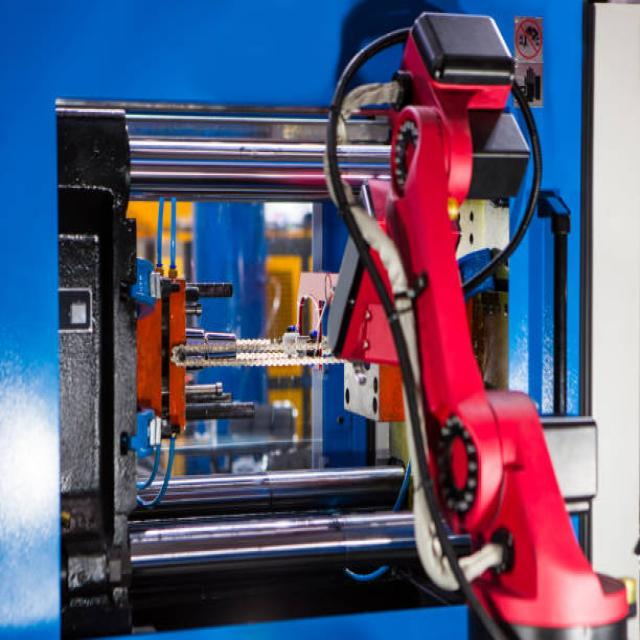Robotic-arm: (306, 0, 630, 640)
